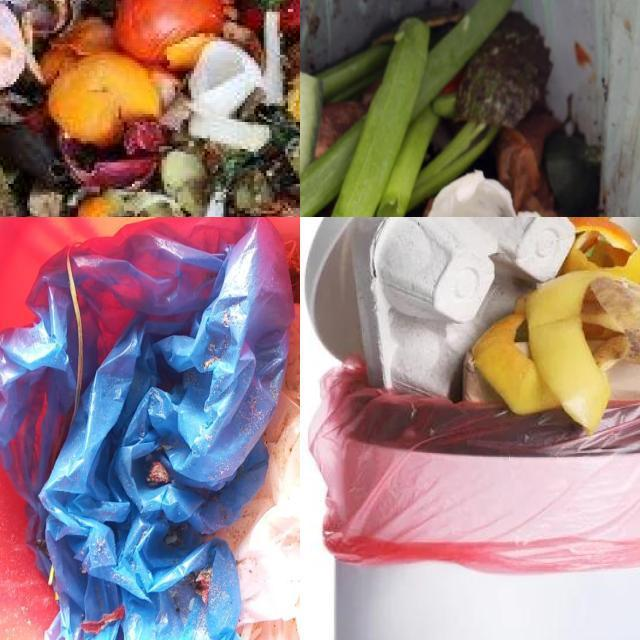Garbage: (0, 217, 300, 640), (307, 217, 640, 433), (300, 0, 620, 217)
Plastic_Bag: (0, 217, 293, 640), (233, 395, 300, 640)
contaminated_waste: (353, 217, 574, 396)
